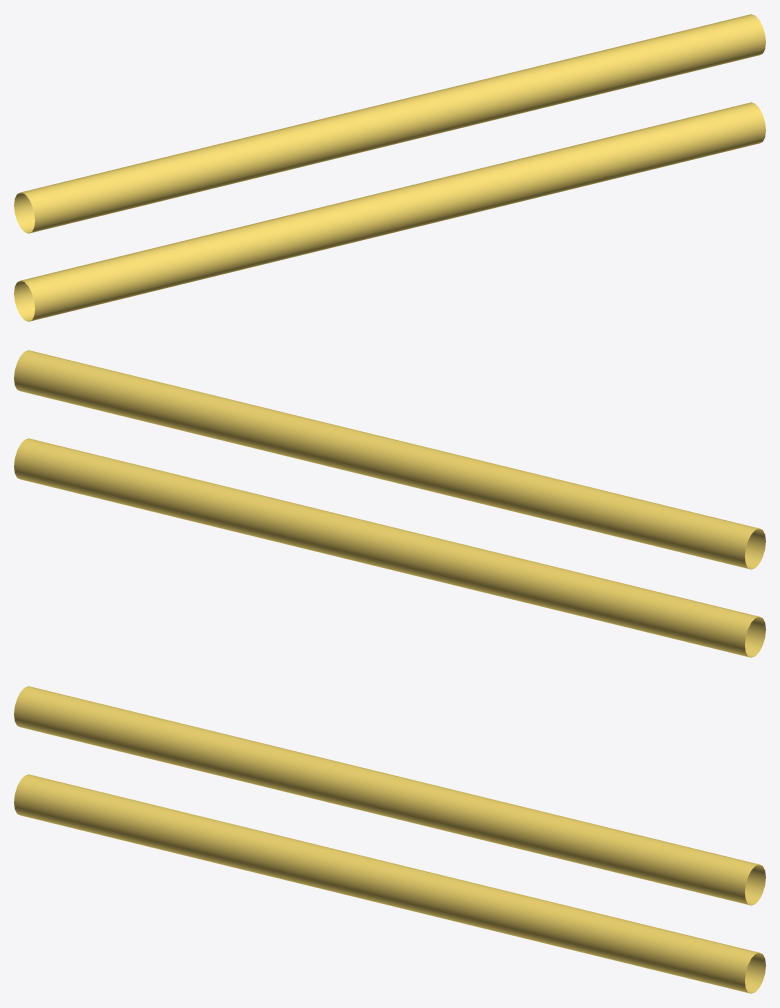
File: Finish.Rubbers.fbx
3 views of the same model, one above another, from view 1: azimuth 30°, elevation 25°; view 2: azimuth 150°, elevation 25°; view 3: azimuth 330°, elevation 25° (orthographic).
Visible parts, largest first — view 1: Finish.Rubbers; view 2: Finish.Rubbers; view 3: Finish.Rubbers.
Part boxes in pixels (left/top/right/bottom): Finish.Rubbers: left=14, top=14, right=765, bottom=321; Finish.Rubbers: left=14, top=350, right=765, bottom=657; Finish.Rubbers: left=14, top=686, right=765, bottom=993.
Size of the model in its own units: 10 by 1.65 by 0.5.
